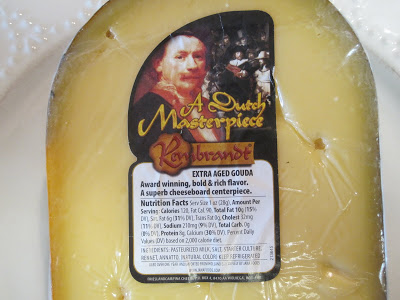cheese: (51, 4, 386, 300)
